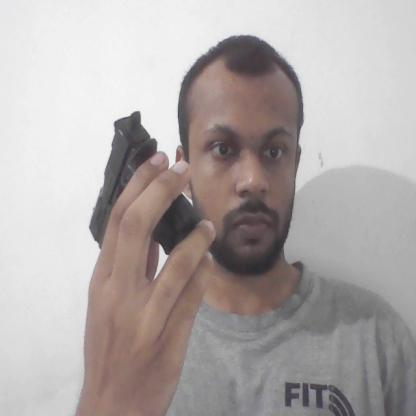handgun: (88, 109, 202, 254)
